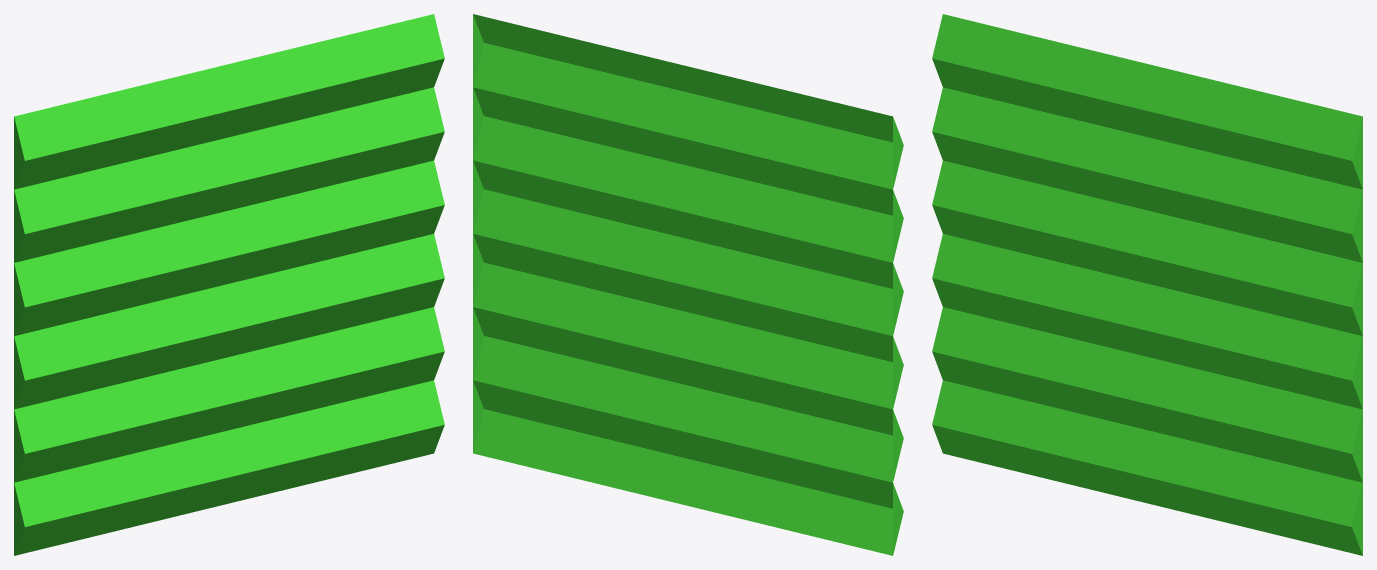
Rendered from Wall_45.fbx.
3 views of the same model, side by side, from view 1: azimuth 30°, elevation 25°; view 2: azimuth 150°, elevation 25°; view 3: azimuth 330°, elevation 25° (orthographic).
Visible parts, largest first — view 1: Wall_45; view 2: Wall_45; view 3: Wall_45.
Boxes of the visible parts, box(x1,y1,x2,y2) form: Wall_45: box(14, 14, 444, 555); Wall_45: box(473, 14, 903, 555); Wall_45: box(932, 14, 1362, 555).
Size of the model in its own units: 229 by 229 by 10.16.
